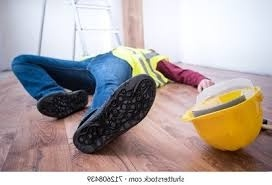fall: (9, 40, 216, 155)
